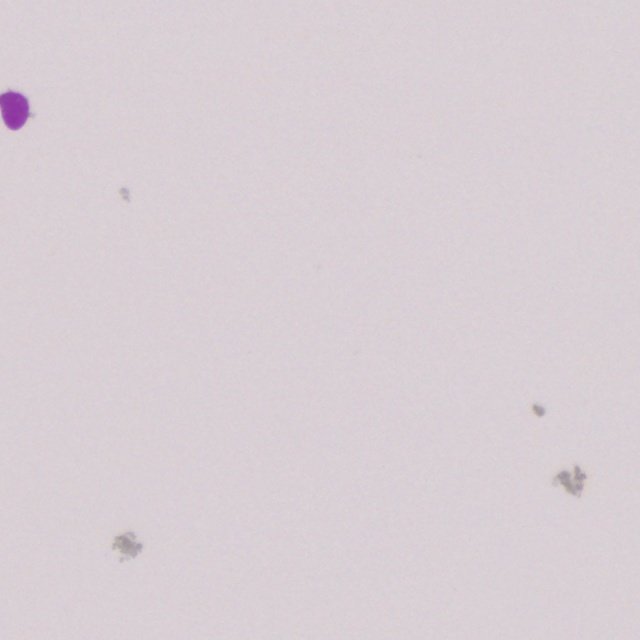viable: (1, 92, 28, 130)
